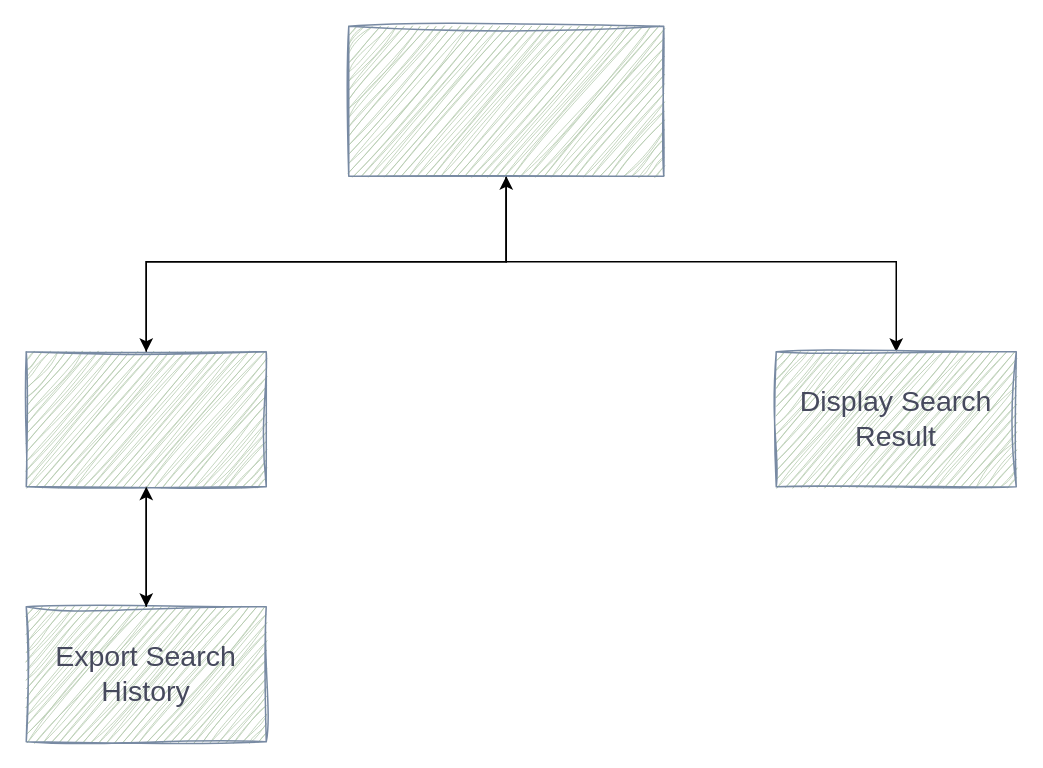
Image size: 1043x768. Some labels were removed from this diagram. Here are the shapes that lost their labels. From the top down, the centre of each, then its label:
At (505,100): "Main tree view".
At (145,418): "View Search History".
